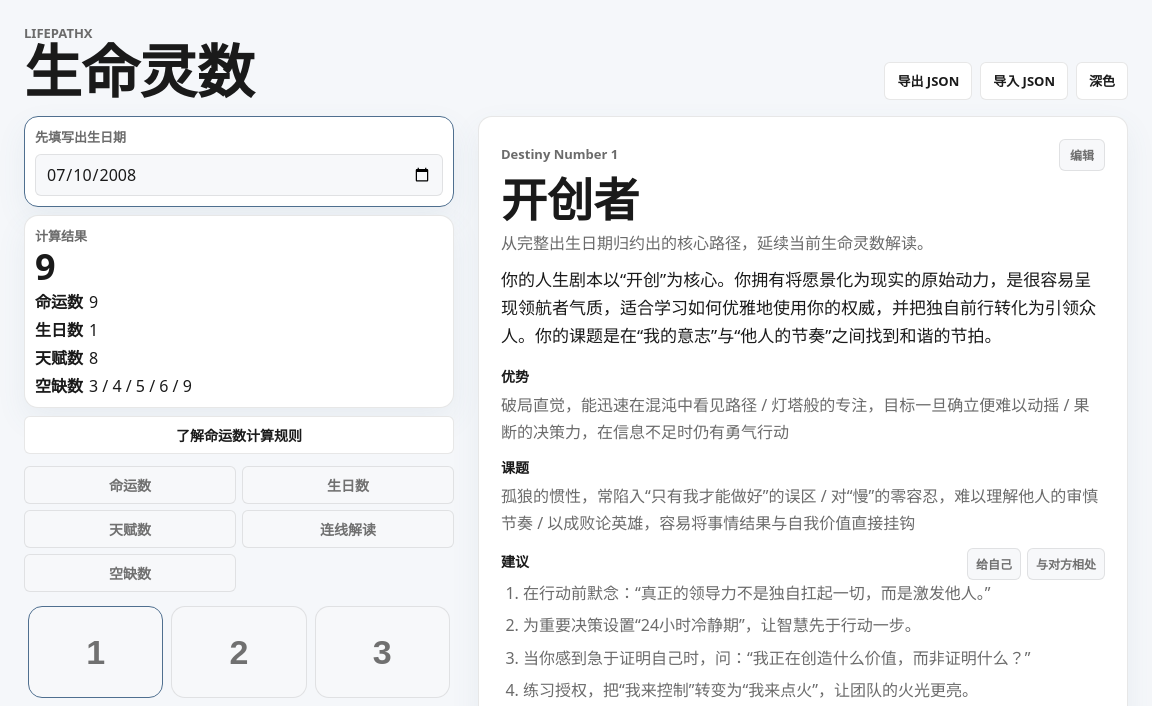
Test: MainPage › 切换查看生日数、天赋数和空缺数解读
Type "1989-08-18" into the date field labelled "先填写出生日期" at [239, 175], box x1=35 y1=154 x2=443 y2=196
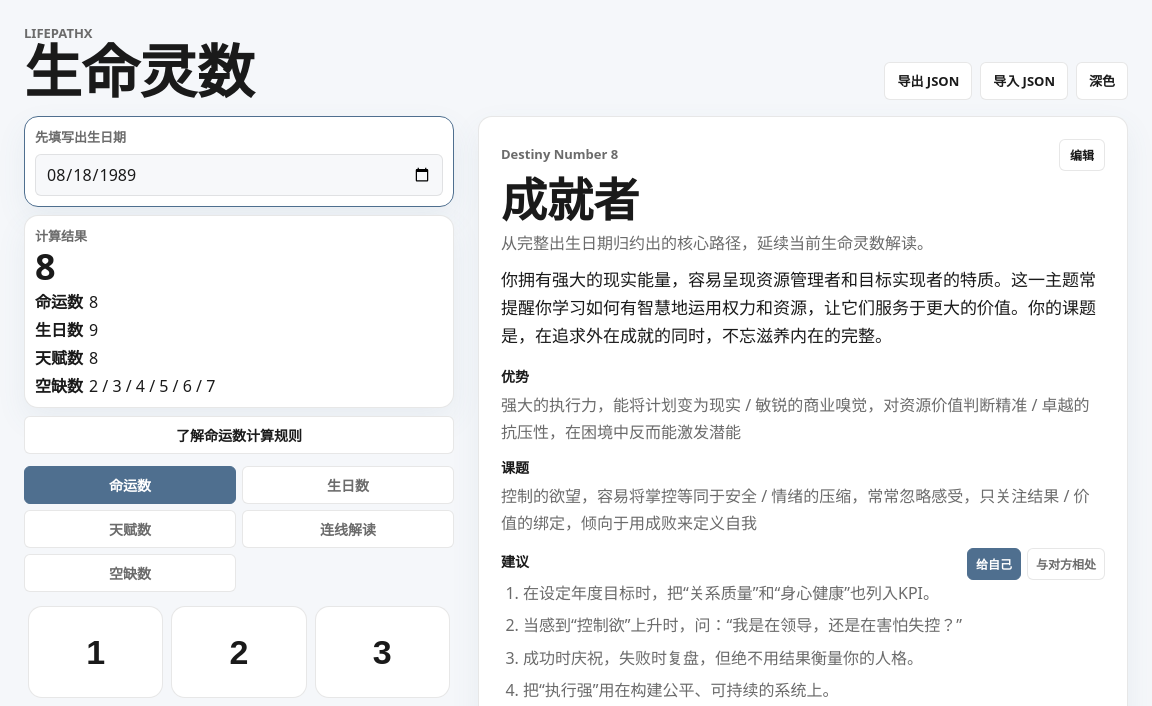
Click the button with class "tab" showing "生日数" at [348, 485], box x1=242 y1=466 x2=454 y2=504
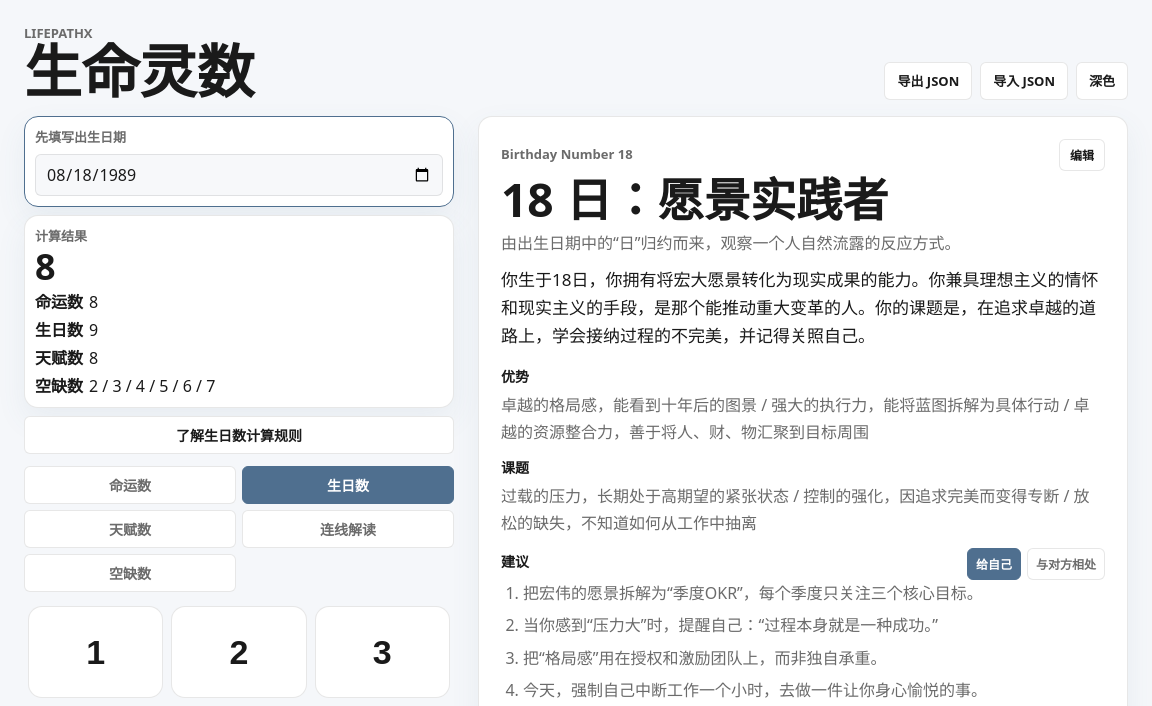
Expected: the text "Birthday Number 18" is shown, x1=501 y1=144 x2=633 y2=165
Expected: the text "18 日：愿景实践者" is shown, x1=501 y1=168 x2=888 y2=231
Click the button with class "tab" showing "天赋数" at [130, 529], box x1=24 y1=510 x2=236 y2=548
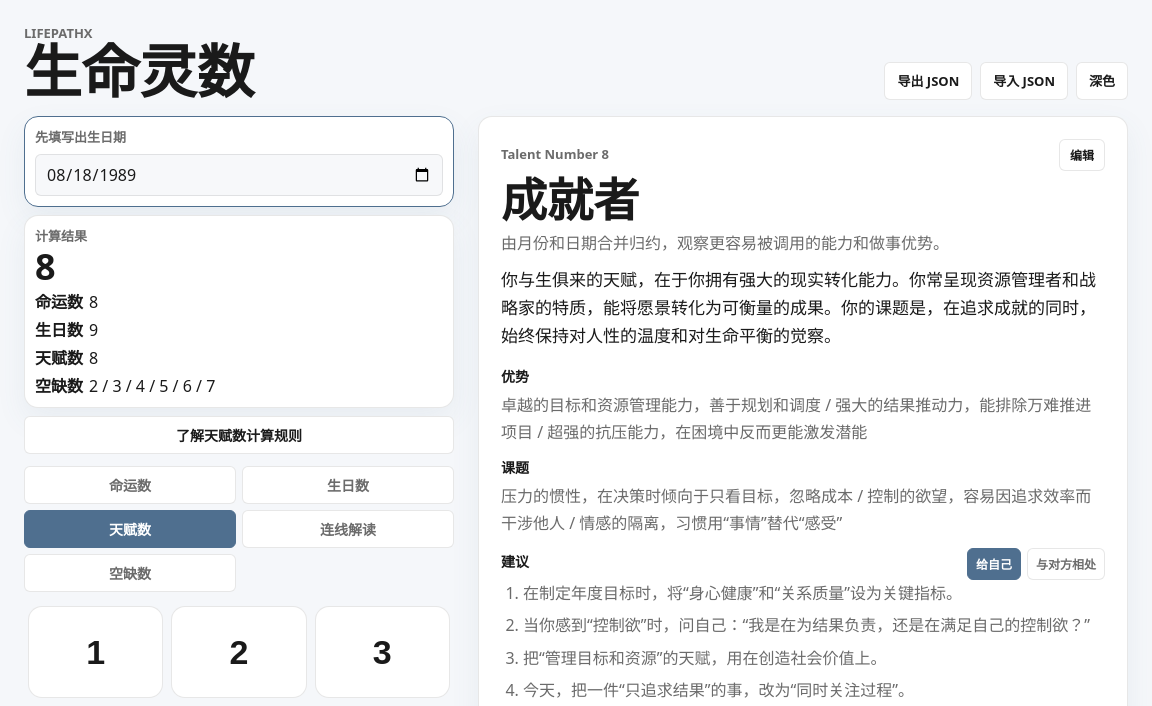
Expected: the text "Talent Number 8" is shown, x1=501 y1=144 x2=609 y2=165
Expected: the text "现实转化能力" is shown, x1=501 y1=268 x2=1096 y2=347
Click the button with class "tab" showing "空缺数" at [130, 573], box x1=24 y1=554 x2=236 y2=592
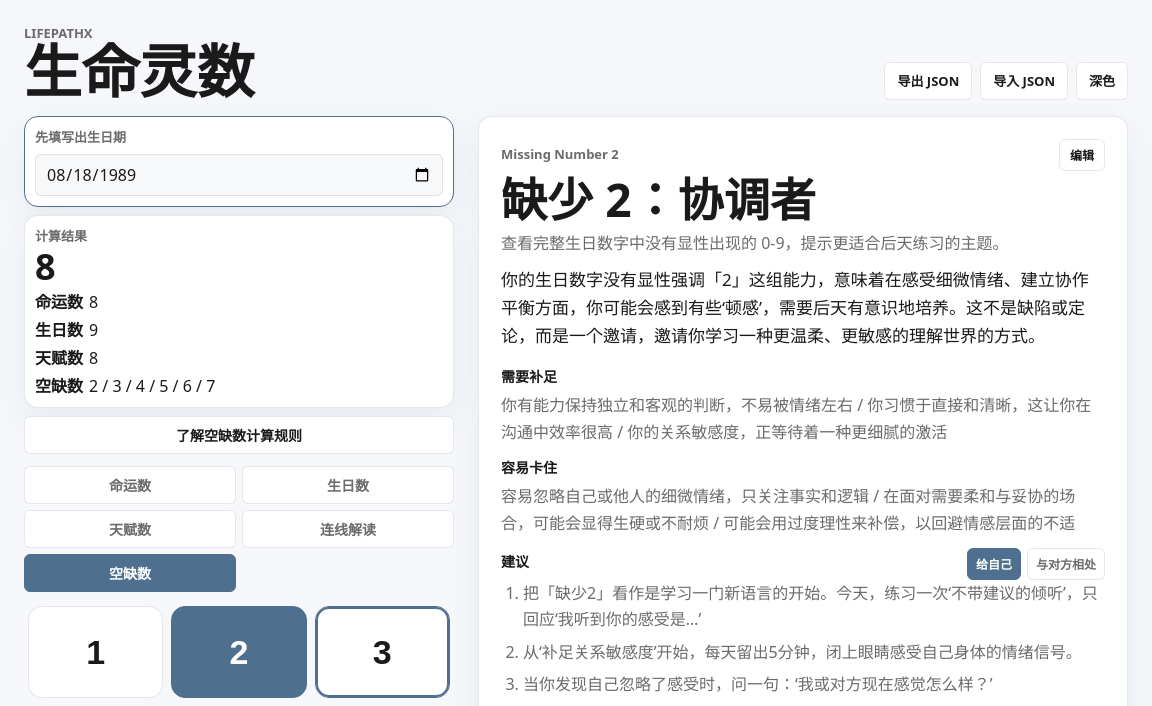
Expected: the text "Missing Number 2" is shown, x1=501 y1=144 x2=619 y2=165
Expected: the text "没有显性强调「2」这组能力" is shown, x1=501 y1=268 x2=1089 y2=347
Expected: the text "后天有意识地培养" is shown, x1=501 y1=268 x2=1089 y2=347
